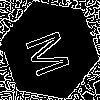M: (25, 25, 79, 80)
